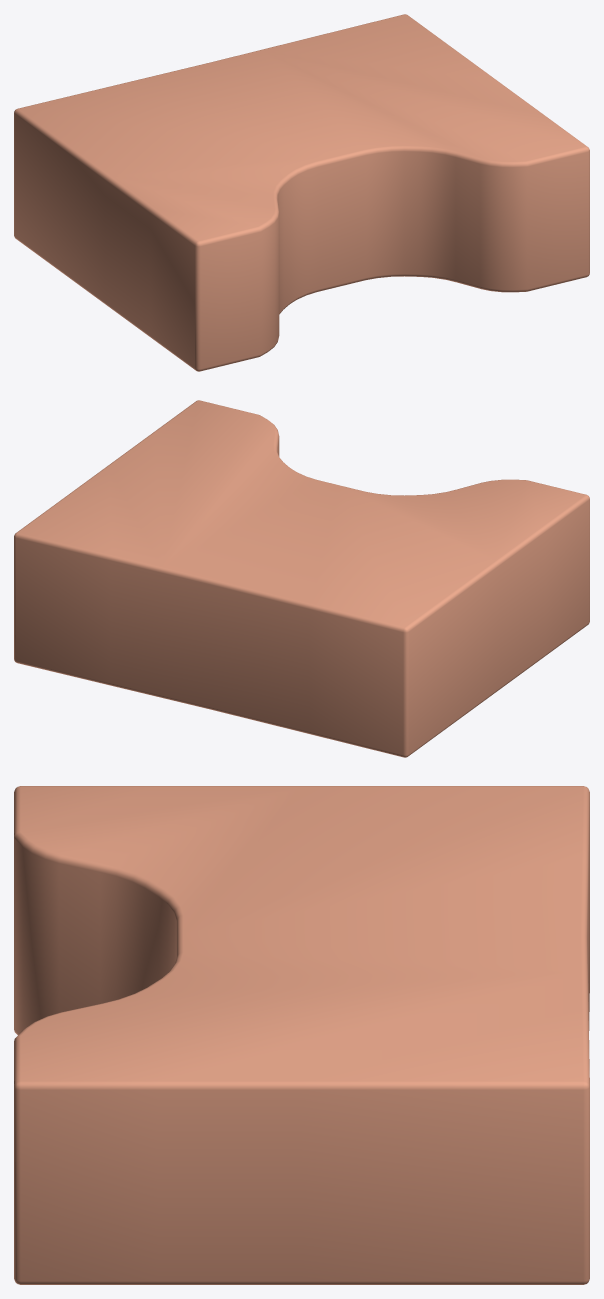
File: island_lv13_1.fbx
The picture shows the model from 3 angles, top to bottom: view 1: azimuth 30°, elevation 25°; view 2: azimuth 150°, elevation 25°; view 3: azimuth 270°, elevation 25°; orthographic projection. The views are drawn at different scales.
Visible parts, largest first — view 1: island_lv13_1; view 2: island_lv13_1; view 3: island_lv13_1.
Boxes of the visible parts, left/top/right/bottom form: island_lv13_1: left=14, top=14, right=589, bottom=371; island_lv13_1: left=14, top=400, right=589, bottom=757; island_lv13_1: left=14, top=786, right=589, bottom=1284.
Bounding box in the file's own units: 1584 × 500 × 1284.
